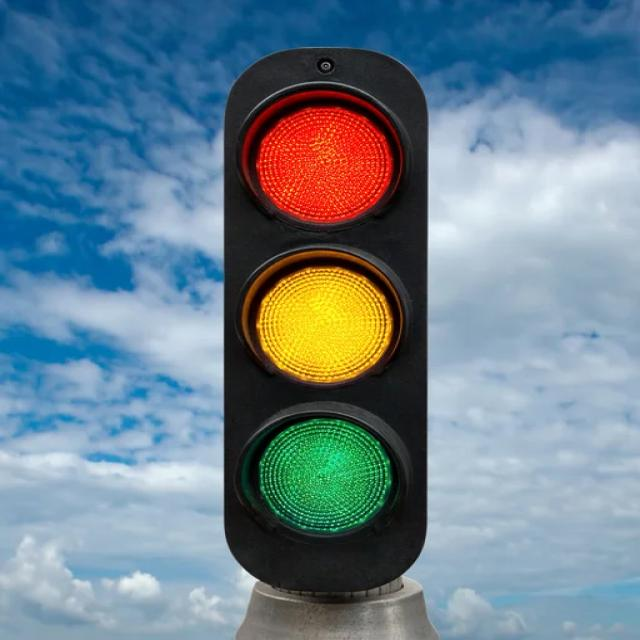green-lights: (246, 406, 428, 552)
red-lights: (241, 80, 402, 234)
yellow-lights: (246, 248, 398, 382)
